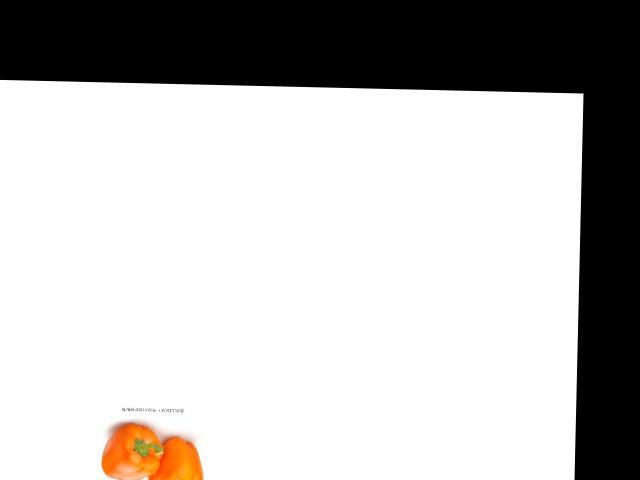bell_pepper: (99, 417, 166, 480)
